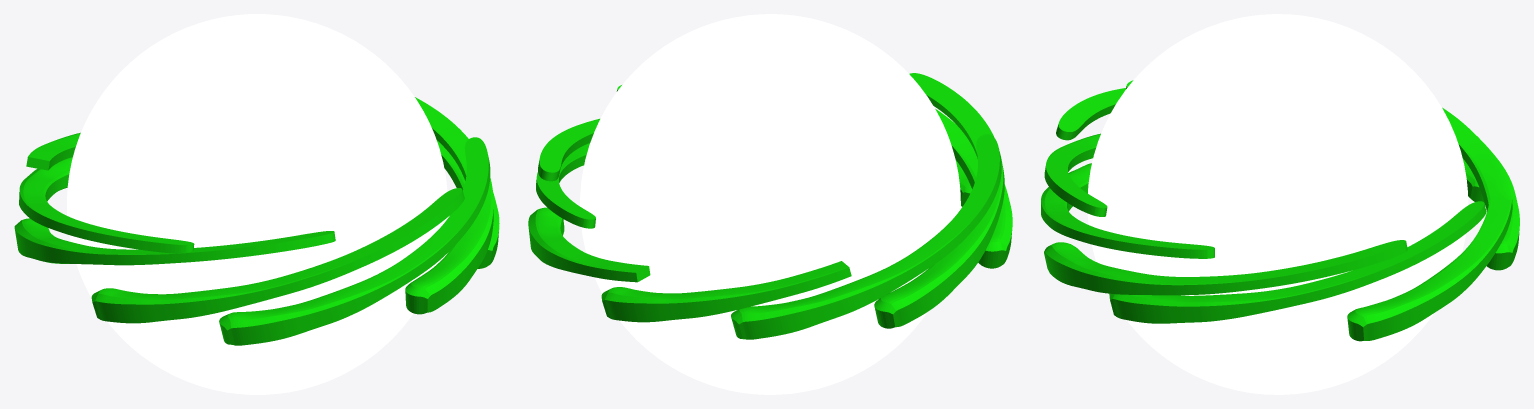
Rendered from Nucleo_de_Almas.glb.
The picture shows the model from 3 angles, left to right: view 1: azimuth 30°, elevation 25°; view 2: azimuth 150°, elevation 25°; view 3: azimuth 270°, elevation 25°; orthographic projection.
Visible parts, largest first — view 1: Icosphere, Circle.008, Circle.001, Circle.004, Circle.005, Circle.007, Circle.002, Circle; view 2: Icosphere, Circle.007, Circle.004, Circle.002, Circle.006, Circle.001, Circle, Circle.005; view 3: Icosphere, Circle, Circle.005, Circle.006, Circle.008, Circle.002, Circle.001, Circle.004, Circle.007.
Part boxes in pixels (x1,y1,x2,y2): Icosphere: [67, 14, 447, 394]; Circle.008: [219, 137, 490, 345]; Circle.001: [91, 188, 464, 323]; Circle.004: [14, 218, 335, 265]; Circle.005: [405, 97, 493, 314]; Circle.007: [19, 157, 194, 253]; Circle.002: [26, 132, 80, 170]; Circle: [436, 140, 499, 268]; Icosphere: [580, 14, 960, 394]; Circle.007: [731, 134, 1001, 339]; Circle.004: [874, 73, 1004, 328]; Circle.002: [601, 261, 851, 322]; Circle.006: [528, 207, 650, 282]; Circle.001: [935, 109, 1012, 268]; Circle: [536, 143, 595, 228]; Circle.005: [538, 118, 599, 181]; Icosphere: [1087, 14, 1468, 394]; Circle: [1109, 201, 1486, 323]; Circle.005: [1044, 240, 1407, 295]; Circle.006: [1347, 199, 1512, 341]; Circle.008: [1041, 163, 1214, 258]; Circle.002: [1442, 107, 1519, 270]; Circle.001: [1044, 133, 1107, 216]; Circle.004: [1056, 88, 1125, 140]; Circle.007: [1126, 80, 1485, 205].
Size of the model in its own units: 2.5 by 2 by 2.51.
